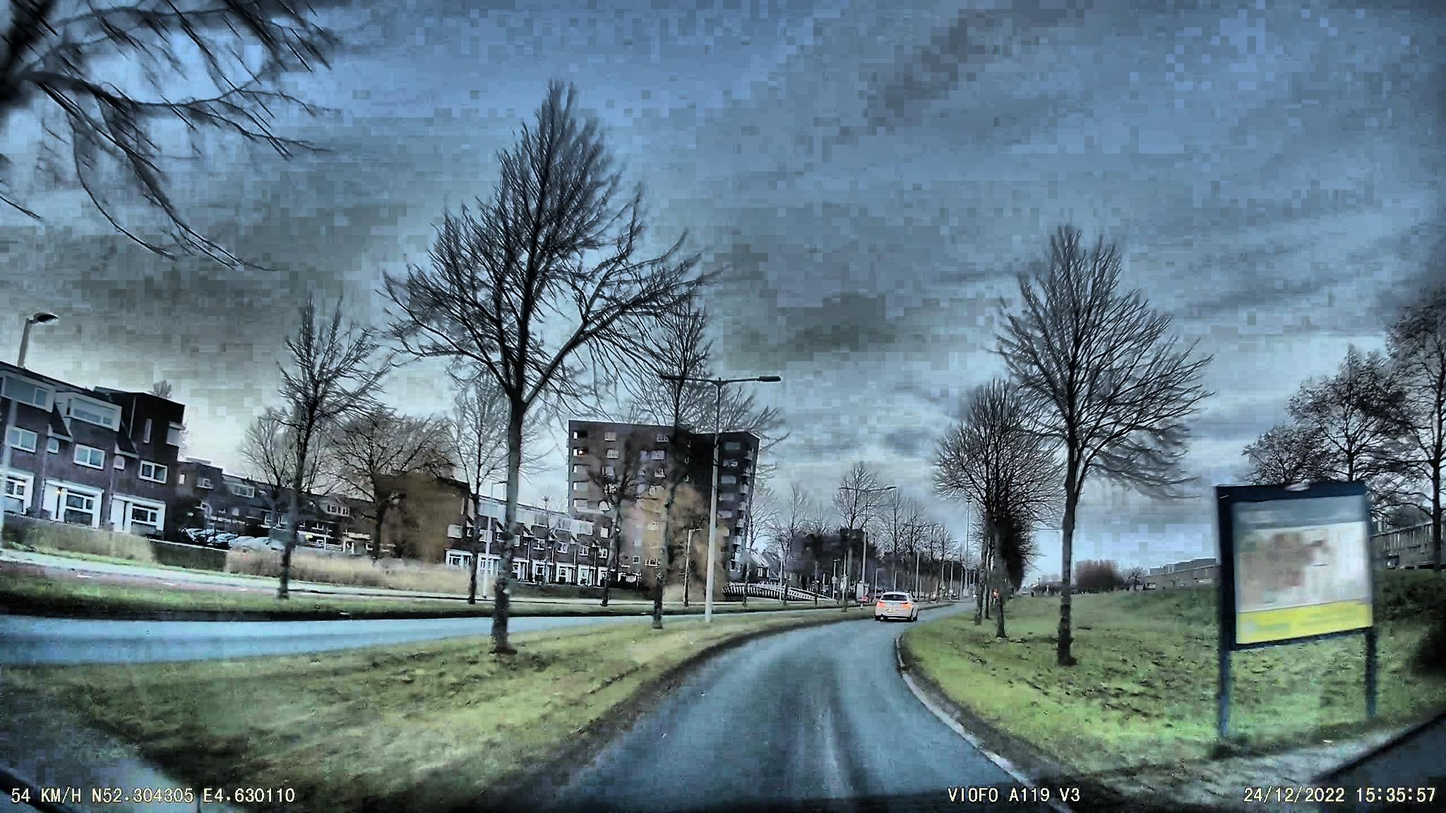Roads: (500, 619, 1075, 813)
